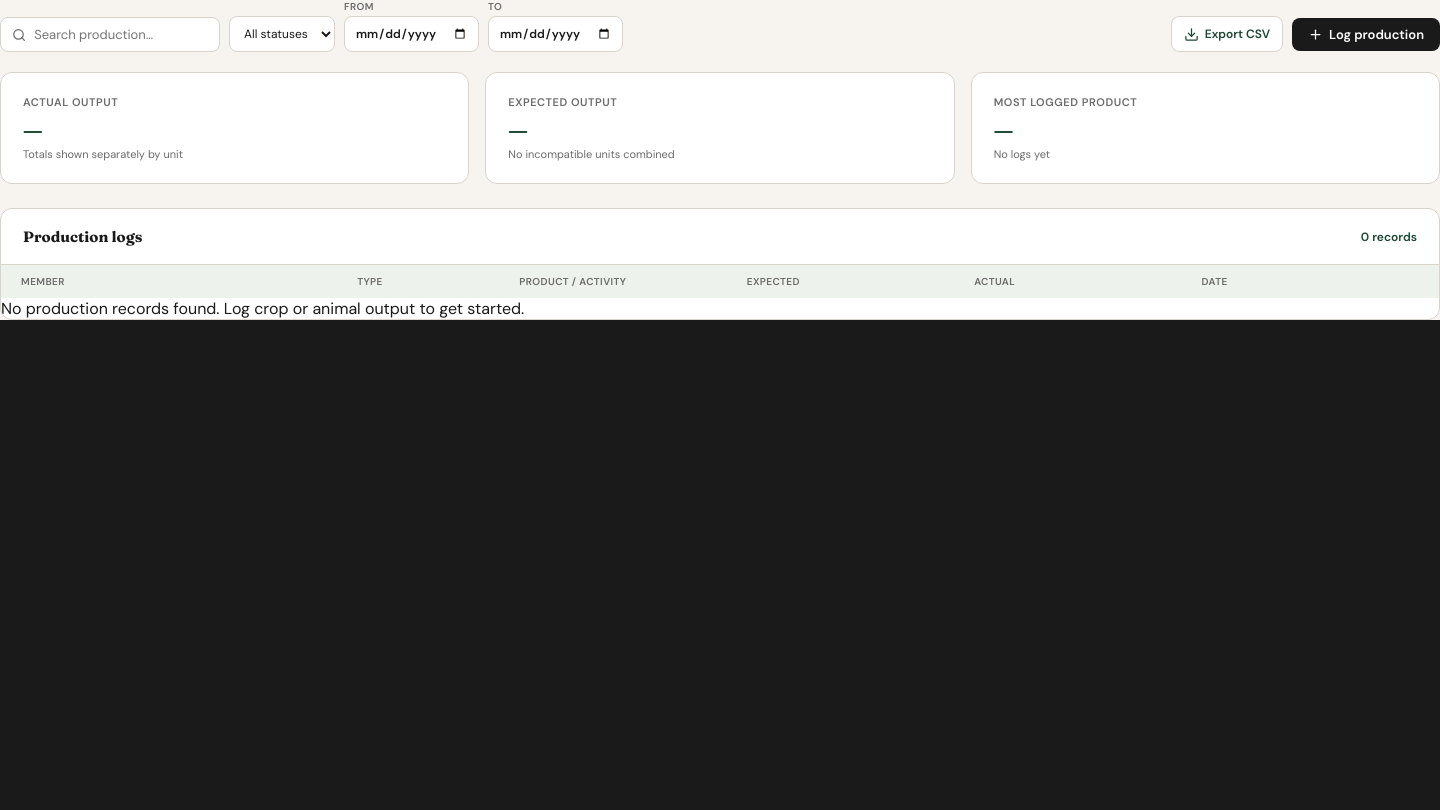
Test: unified production dashboard › locks crop members to crop fields
This screenshot has width=1440, height=810.
Click the button "Log production" at (1366, 34), box [1292,18,1439,50]
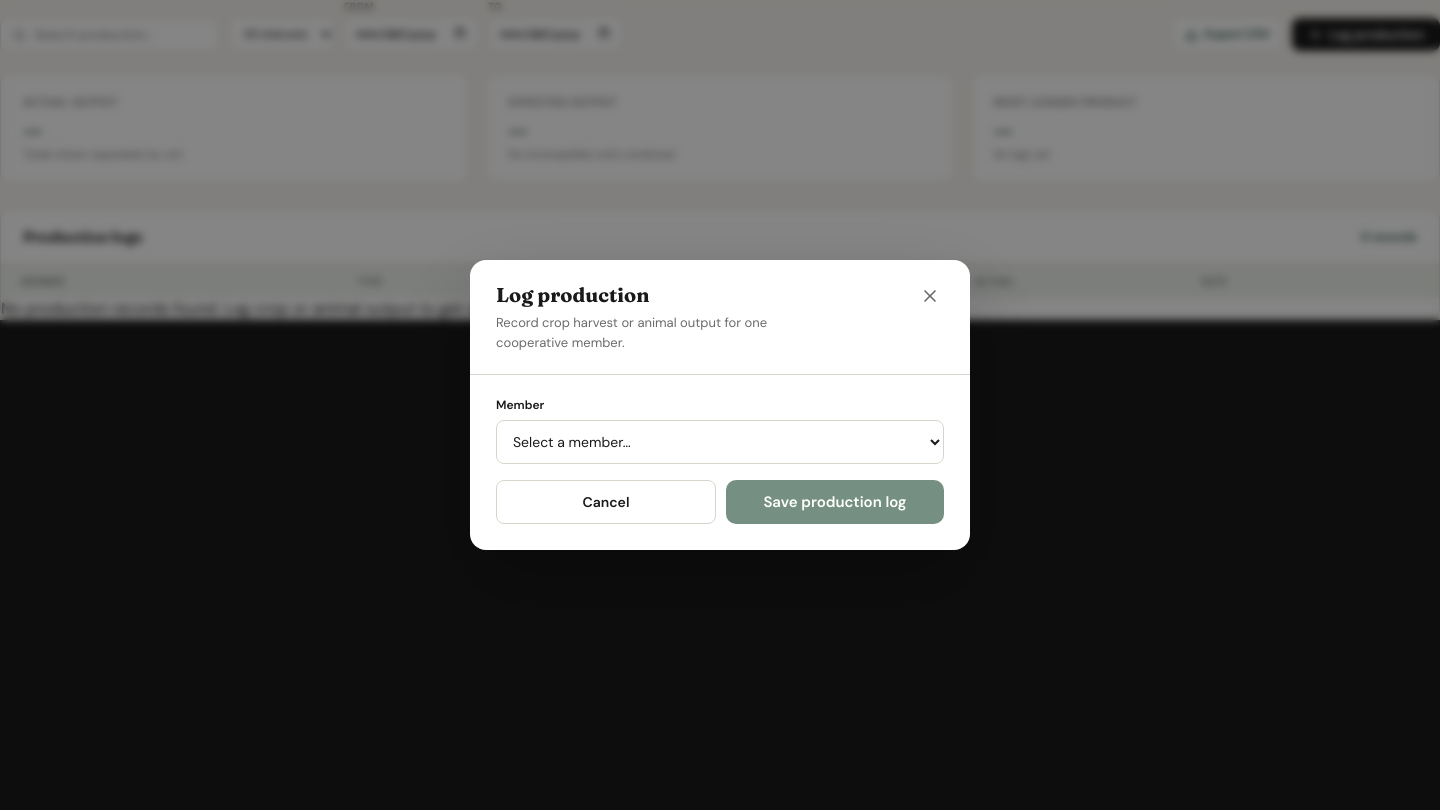
Select "Crop Farmer (0200000001)" in the dropdown labelled "Member" at (720, 442), box [496,420,944,464]
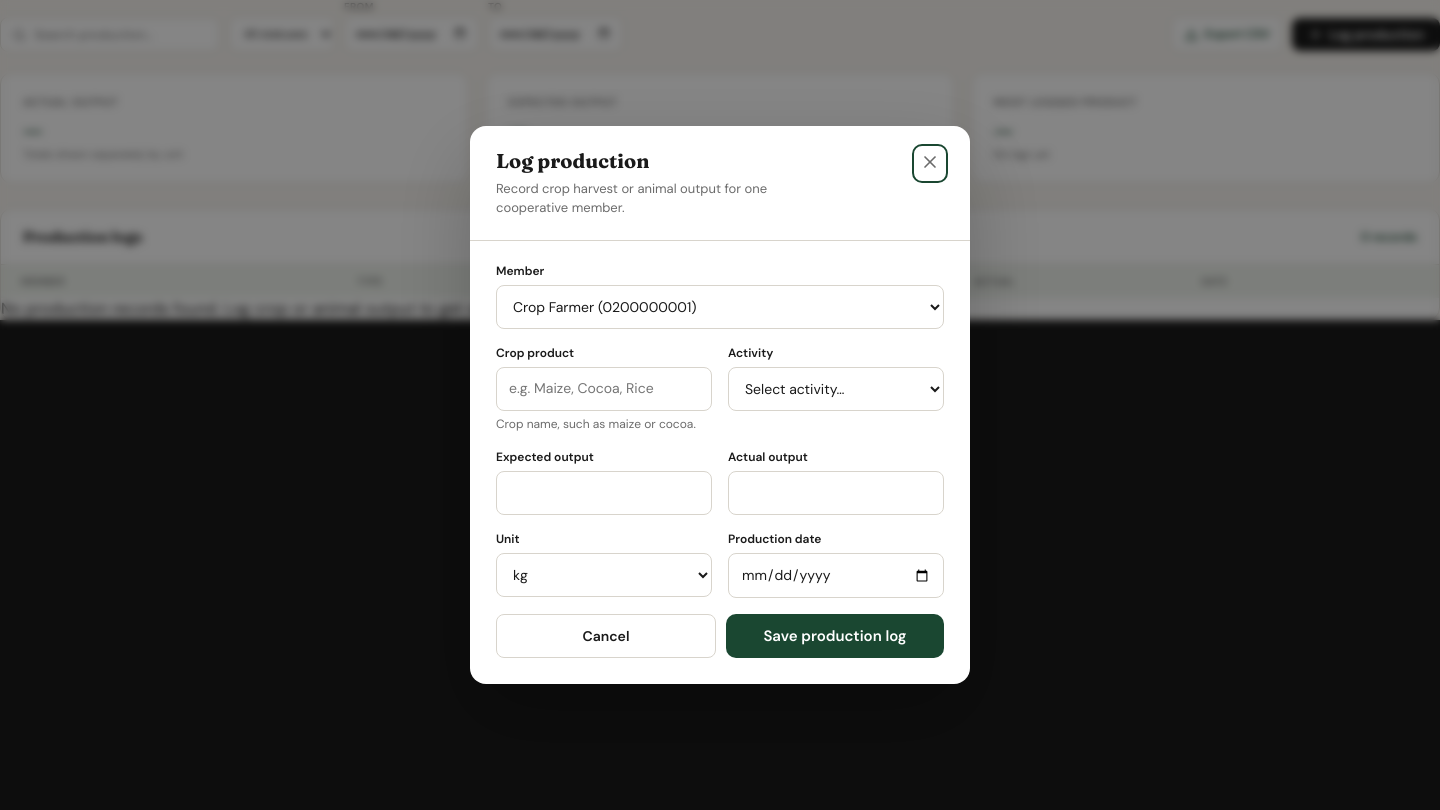
Check: the field labelled "Crop product" is shown, box [496,367,712,410]
